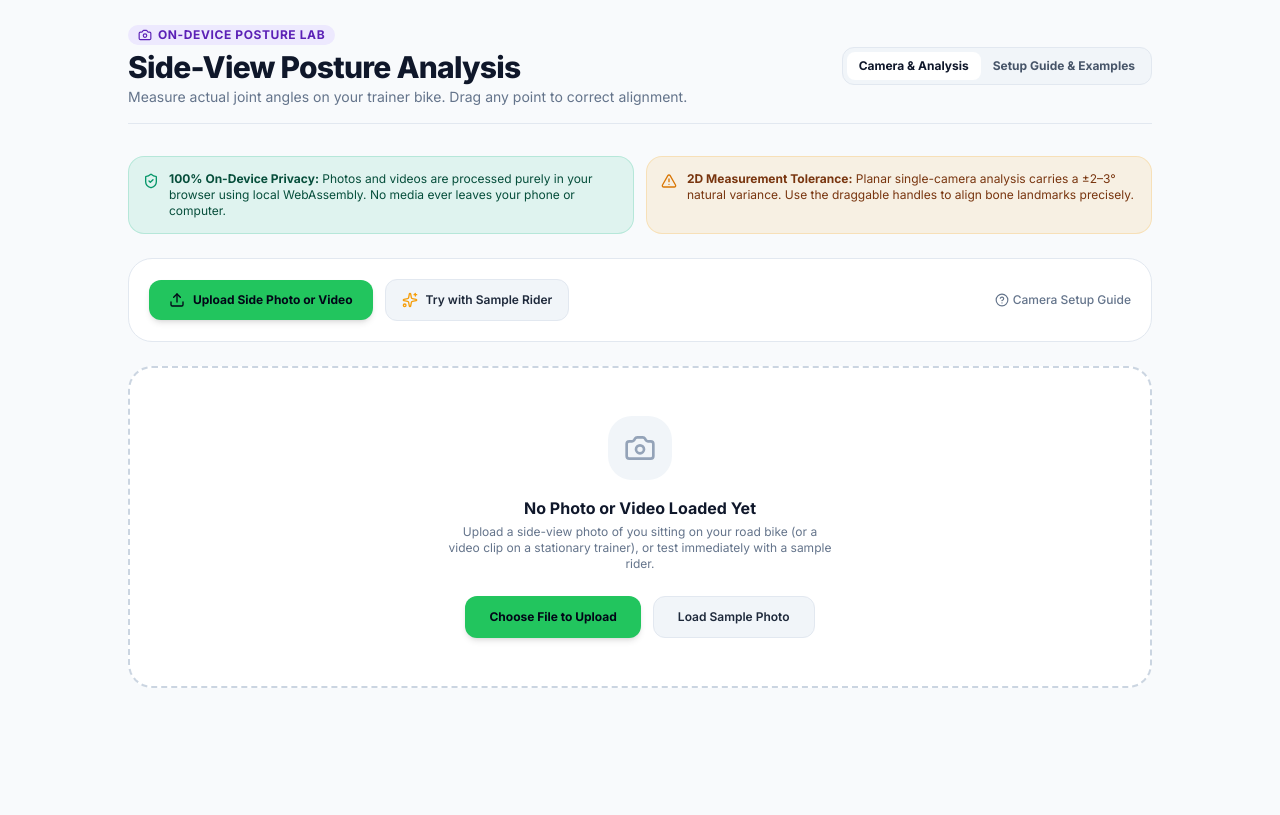
Test case: PosturePage › switches to Setup Guide tab showing good vs bad photo instructions
Click the button "Setup Guide & Examples".
click(1064, 66)  # box [981,52,1147,80]
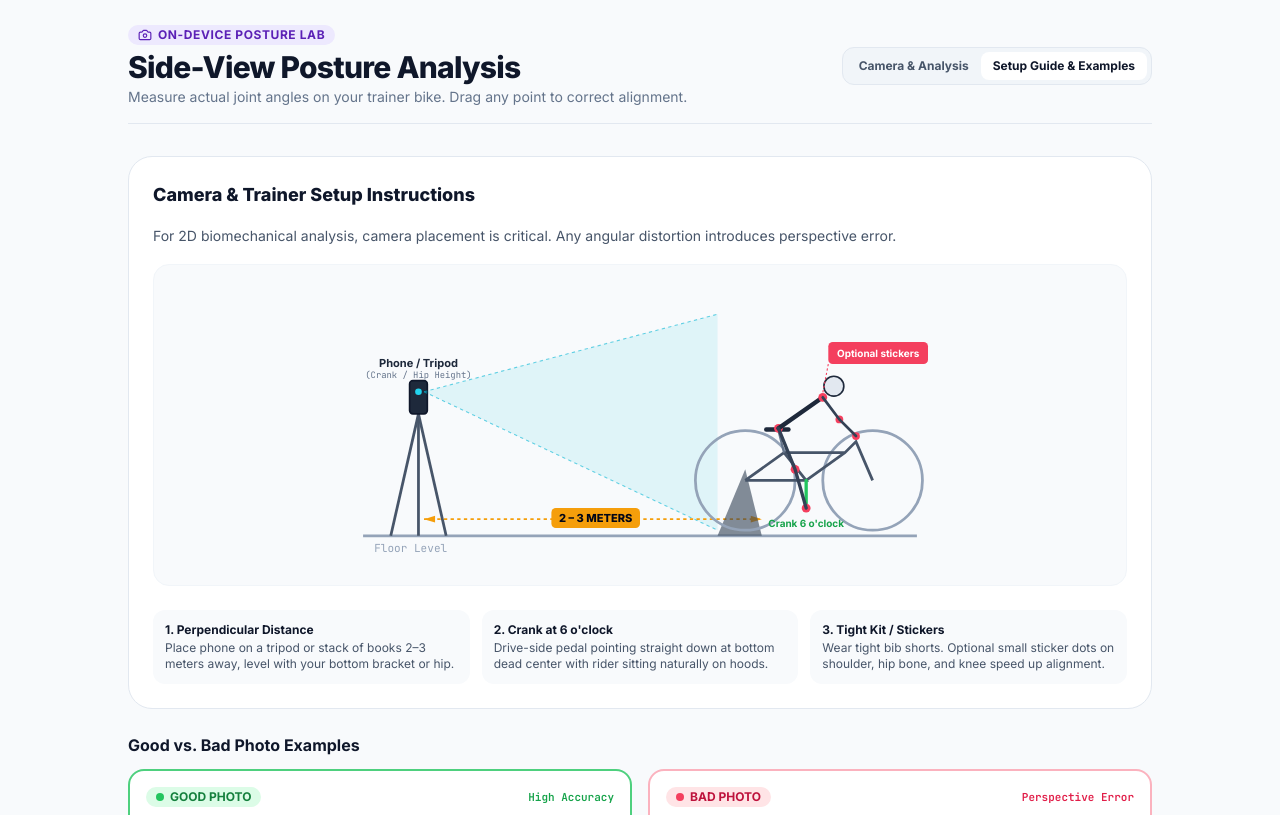
Check: the heading "Camera & Trainer Setup Instructions" is shown, box [153,184,475,205]
Check: the text "GOOD PHOTO" is shown, box [146,787,262,807]
Check: the text "BAD PHOTO" is shown, box [666,787,771,807]
